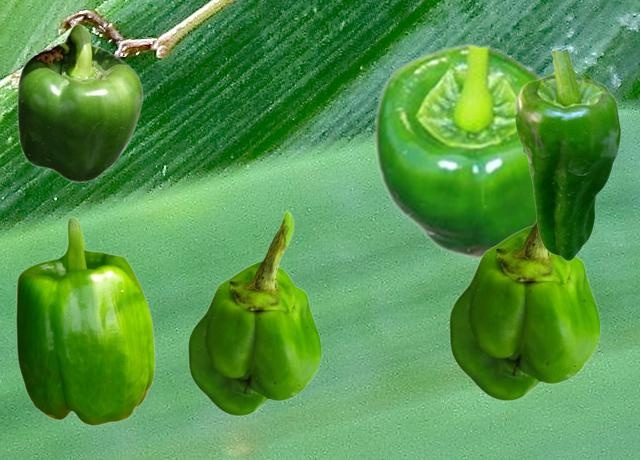bell_pepper: (372, 42, 544, 260), (15, 216, 154, 425), (187, 210, 321, 415), (448, 220, 600, 400), (514, 51, 620, 260), (16, 23, 142, 182)
